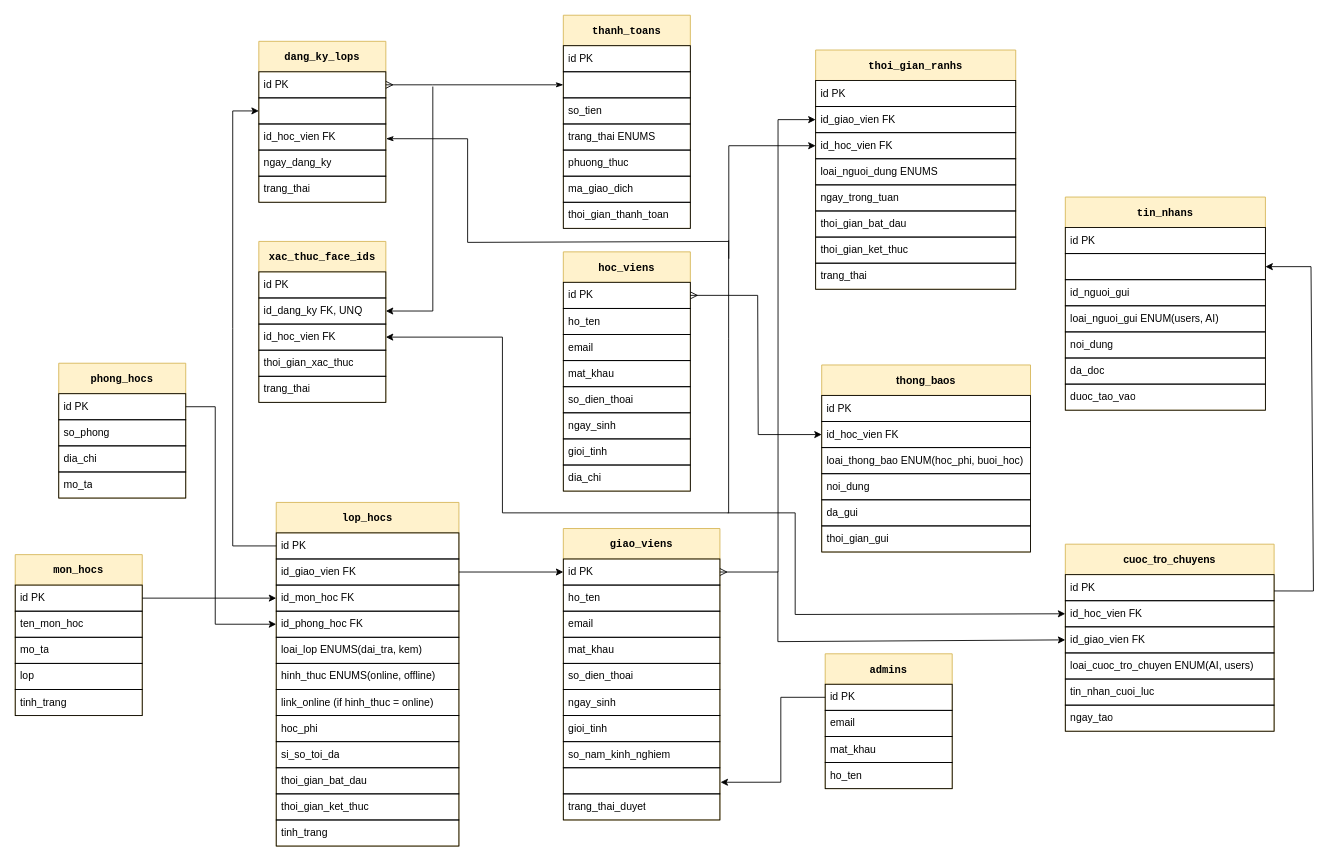
Some shapes in this 1336 by 861 pixel diagram are drawn without their labels. Here are the shapes that lost their labels. From the top down, the centre of each, then its label:
At (626,84): "id_dang_ky FK".
At (322,110): "id_lop_hoc FK".
At (1164,266): "id_cuoc_tro_chuyen FK".
At (641,780): "giao_vien_da_duyet FK -> admin.id (NULLABLE)".
